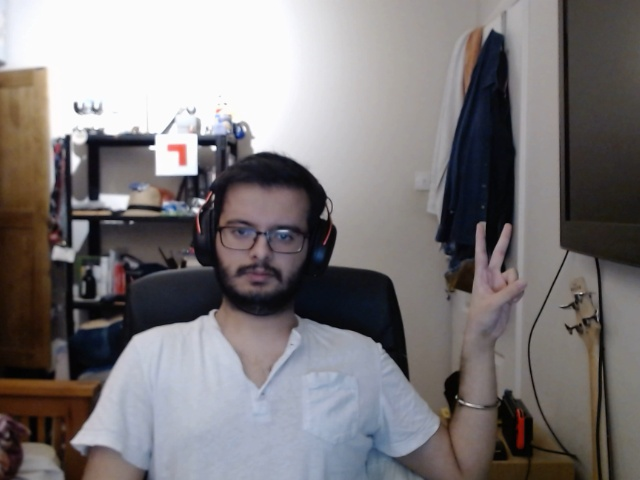Peace: (448, 212, 538, 350)
